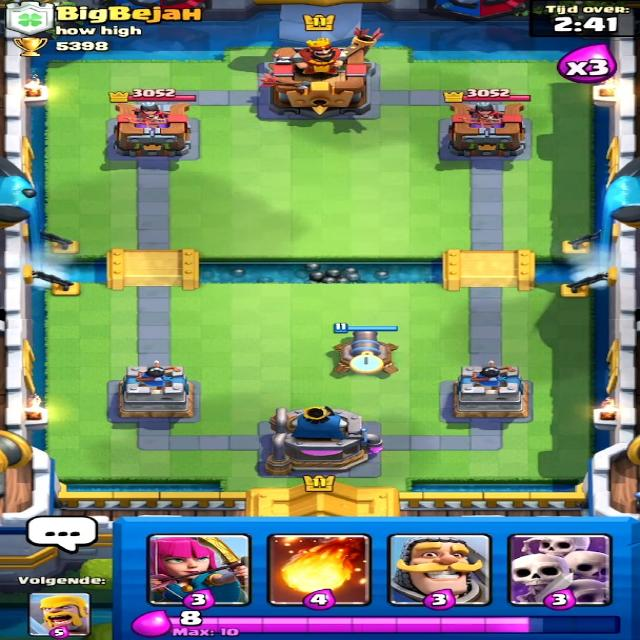Cannon_Troop: (319, 324, 406, 386)
Fireball_Card: (261, 534, 370, 607)
